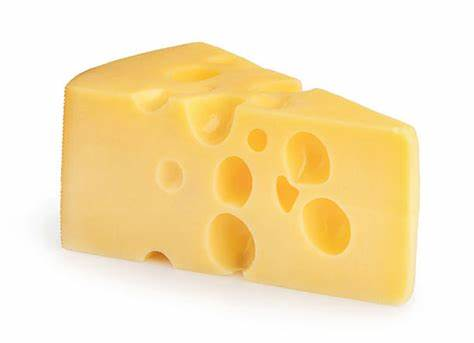Cheese: (57, 37, 422, 312)
